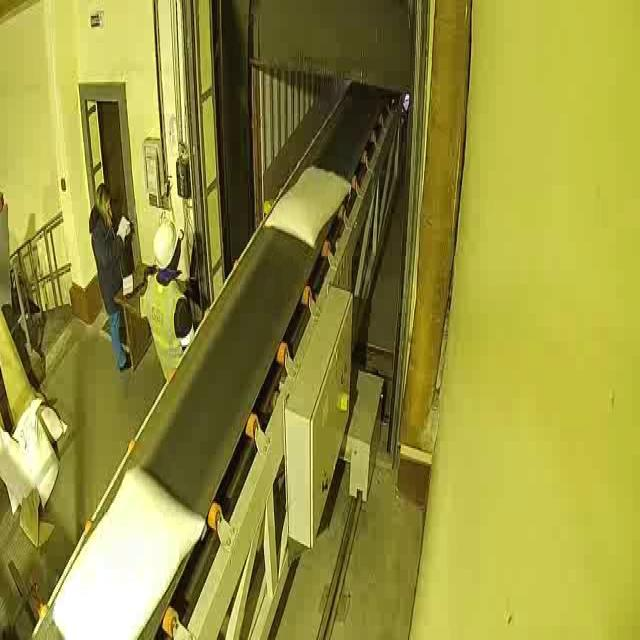bag: (50, 460, 206, 634), (263, 160, 352, 249)
